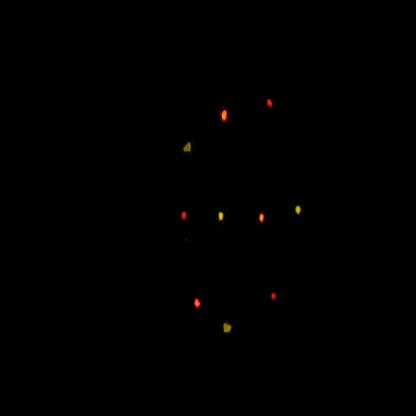PE: (273, 194, 310, 234), (214, 202, 235, 238)
PET: (260, 87, 279, 126), (172, 208, 195, 238), (269, 284, 288, 317)
PP: (181, 136, 197, 164)
PVC: (217, 94, 233, 138), (254, 202, 273, 239), (189, 289, 207, 321)
pp: (221, 319, 236, 346)
